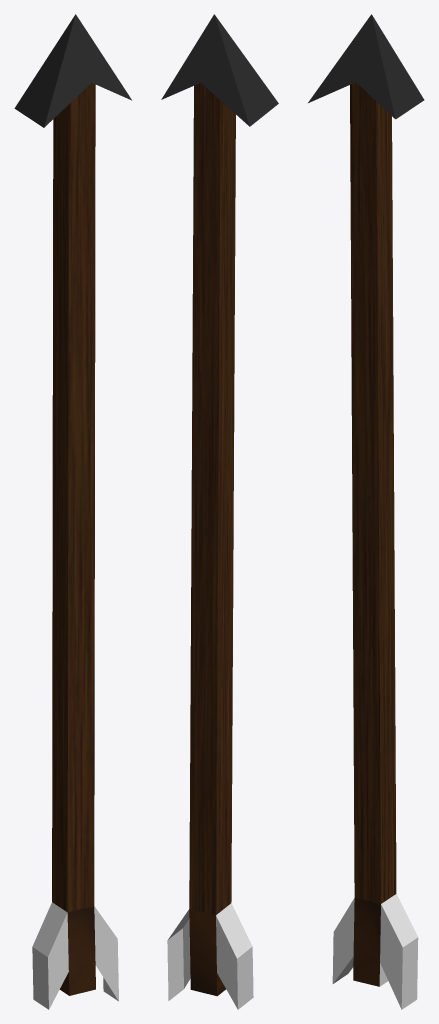
The model's file is arrow.fbx.
3 renders of one model, left to right at view 1: azimuth 30°, elevation 25°; view 2: azimuth 150°, elevation 25°; view 3: azimuth 330°, elevation 25°, orthographic.
Parts seen in each view (by area): view 1: Cube.001; view 2: Cube.001; view 3: Cube.001.
Boxes of the visible parts, x1,y1,x2,y2 form: Cube.001: (14,14,131,1009); Cube.001: (161,14,278,1009); Cube.001: (308,14,424,1009).
Size of the model in its own units: 7.54 by 80.43 by 4.41.
